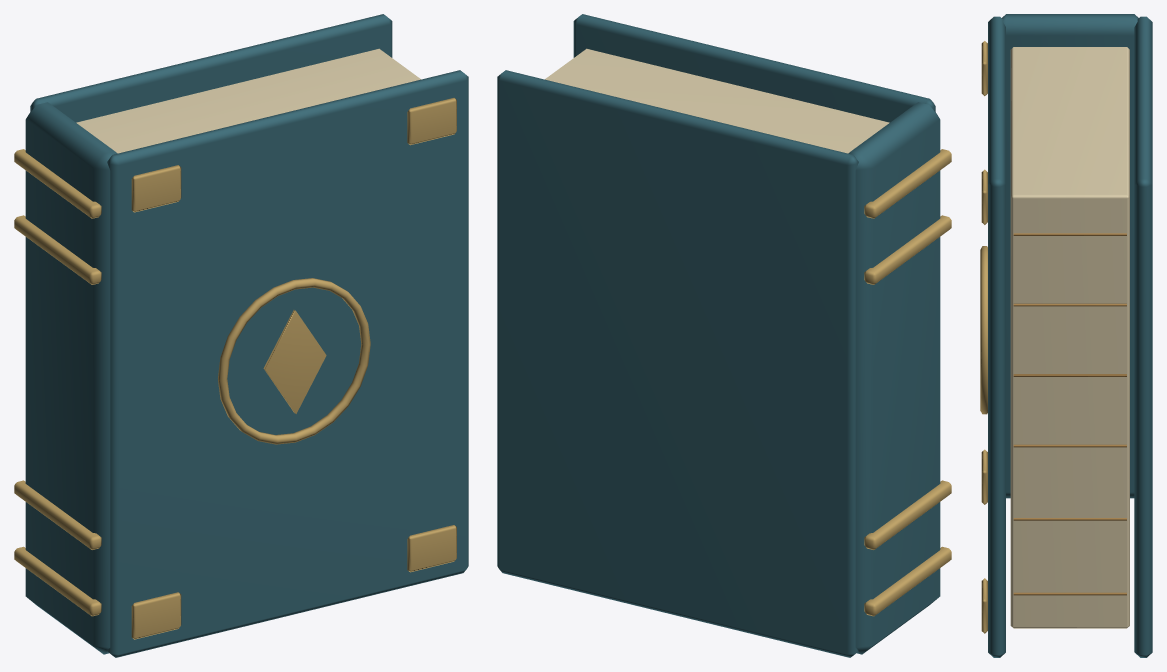
Rendered from P032_spell_book_rebuilt.glb.
3 views of the same model, side by side, from view 1: azimuth 30°, elevation 25°; view 2: azimuth 150°, elevation 25°; view 3: azimuth 270°, elevation 25° (orthographic). The views are drawn at different scales.
Visible parts, largest first — view 1: blue, brass, paper; view 2: blue, paper, brass; view 3: paper, blue, brass, edge.
Boxes of the visible parts, x1,y1,x2,y2 form: blue: (25,14,468,657); brass: (14,98,456,639); paper: (76,48,420,153); blue: (497,14,940,657); paper: (545,48,889,153); brass: (864,149,951,616); paper: (1010,47,1129,628); blue: (988,14,1152,657); brass: (980,41,987,633); edge: (1013,233,1126,595).
Size of the model in its own units: 0.268 by 0.34 by 0.111.
